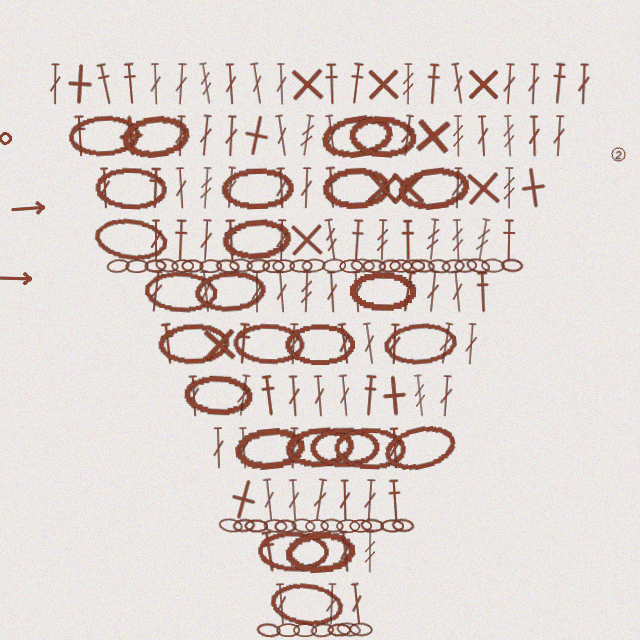chain: (380, 419, 459, 476), (318, 110, 395, 162), (92, 214, 169, 265), (268, 579, 346, 629), (395, 163, 471, 213), (119, 111, 193, 161), (382, 320, 458, 368), (232, 424, 306, 472), (193, 268, 268, 315), (283, 424, 357, 471), (220, 216, 294, 263), (143, 269, 218, 315), (67, 113, 142, 159), (283, 528, 356, 575), (347, 113, 419, 159), (182, 373, 255, 418), (157, 322, 231, 366), (232, 322, 306, 366), (220, 166, 294, 210), (333, 426, 406, 470), (94, 166, 167, 210), (321, 165, 392, 210), (257, 530, 330, 573), (309, 426, 381, 469), (348, 270, 418, 313), (284, 323, 355, 365), (465, 256, 491, 275), (154, 257, 180, 274), (336, 621, 361, 638), (218, 517, 243, 534), (291, 517, 316, 534), (256, 622, 281, 638), (310, 622, 335, 638), (263, 518, 288, 534), (215, 258, 240, 274), (410, 258, 435, 274), (106, 258, 130, 274), (378, 258, 402, 274), (427, 258, 451, 274), (441, 258, 465, 274), (301, 258, 326, 273), (350, 258, 375, 273), (349, 622, 373, 637), (232, 518, 256, 533), (320, 518, 344, 533), (360, 518, 384, 533), (391, 518, 415, 533), (229, 258, 253, 273), (246, 258, 270, 273), (322, 258, 346, 273), (481, 258, 505, 273), (500, 258, 524, 273), (454, 258, 477, 273), (276, 623, 300, 637), (293, 623, 317, 637), (327, 623, 351, 637), (244, 519, 268, 533), (305, 519, 329, 533), (336, 519, 360, 533), (380, 519, 404, 533), (125, 259, 149, 273), (289, 259, 313, 273), (339, 259, 363, 273), (362, 259, 386, 273), (389, 259, 413, 273), (401, 259, 425, 273), (274, 519, 297, 533), (349, 519, 372, 533), (144, 259, 167, 273), (171, 259, 194, 273), (181, 259, 204, 273), (199, 259, 222, 273), (262, 259, 285, 273), (272, 259, 295, 273)
double: (310, 478, 330, 521), (436, 322, 456, 365), (272, 114, 292, 157), (247, 62, 267, 105), (448, 62, 468, 105), (234, 374, 253, 417), (335, 322, 354, 365), (360, 322, 379, 365), (322, 114, 341, 157), (398, 114, 417, 157), (348, 582, 366, 625), (336, 530, 354, 573), (260, 478, 278, 521), (147, 270, 165, 313), (197, 270, 215, 313), (424, 270, 442, 313), (336, 374, 353, 417), (449, 270, 466, 313), (222, 166, 239, 209), (197, 114, 214, 157), (273, 583, 290, 625), (311, 375, 328, 417), (273, 271, 290, 313), (286, 479, 302, 521), (362, 479, 378, 521), (236, 427, 252, 469), (387, 427, 403, 469), (186, 375, 202, 417), (286, 375, 302, 417), (438, 375, 454, 417), (463, 323, 479, 365), (324, 271, 340, 313), (349, 271, 365, 313), (198, 219, 214, 261), (97, 167, 113, 209), (173, 167, 189, 209), (223, 115, 239, 157), (475, 115, 491, 157), (551, 115, 567, 157), (173, 63, 189, 105), (223, 63, 239, 105), (501, 63, 517, 105), (324, 583, 339, 625), (211, 427, 226, 469), (286, 427, 301, 469), (286, 323, 301, 365), (387, 323, 402, 365), (274, 219, 289, 261), (274, 167, 289, 209), (299, 167, 314, 209), (450, 167, 465, 209), (173, 115, 188, 157), (148, 63, 163, 105), (274, 63, 289, 105), (526, 63, 541, 105), (576, 63, 591, 105), (338, 479, 352, 521), (250, 271, 264, 313), (149, 219, 163, 261), (527, 115, 541, 157), (48, 63, 62, 105)
half_double: (93, 62, 117, 106), (258, 530, 280, 573), (397, 270, 419, 313), (258, 374, 279, 417), (346, 62, 367, 105), (158, 322, 178, 365), (360, 374, 379, 417), (234, 322, 253, 365), (322, 166, 341, 209), (121, 62, 140, 105), (549, 62, 568, 105), (386, 479, 404, 521), (222, 219, 240, 261), (348, 219, 366, 261), (71, 115, 89, 157), (424, 63, 442, 105), (474, 271, 491, 313), (172, 219, 189, 261), (147, 167, 164, 209), (323, 63, 340, 105), (400, 219, 416, 261), (501, 219, 517, 261)
noise: (10, 200, 47, 216), (0, 271, 34, 285), (608, 144, 629, 165), (0, 130, 13, 146)
single: (218, 474, 269, 525), (232, 111, 281, 160), (510, 164, 557, 211), (372, 373, 417, 418), (108, 113, 153, 158), (410, 113, 455, 158), (197, 322, 241, 366), (461, 166, 505, 210), (58, 62, 102, 106), (285, 62, 329, 106), (285, 218, 328, 261), (361, 166, 404, 209), (386, 166, 429, 209), (362, 63, 404, 105), (462, 63, 504, 105)
treble: (473, 218, 493, 261), (297, 114, 317, 157), (196, 62, 216, 105), (322, 218, 341, 261), (411, 374, 429, 417), (424, 218, 442, 261), (198, 167, 214, 209), (501, 115, 517, 157), (299, 271, 314, 313), (375, 219, 390, 261), (450, 219, 465, 261), (363, 531, 377, 573), (502, 167, 516, 209), (451, 115, 465, 157), (401, 63, 415, 105)
